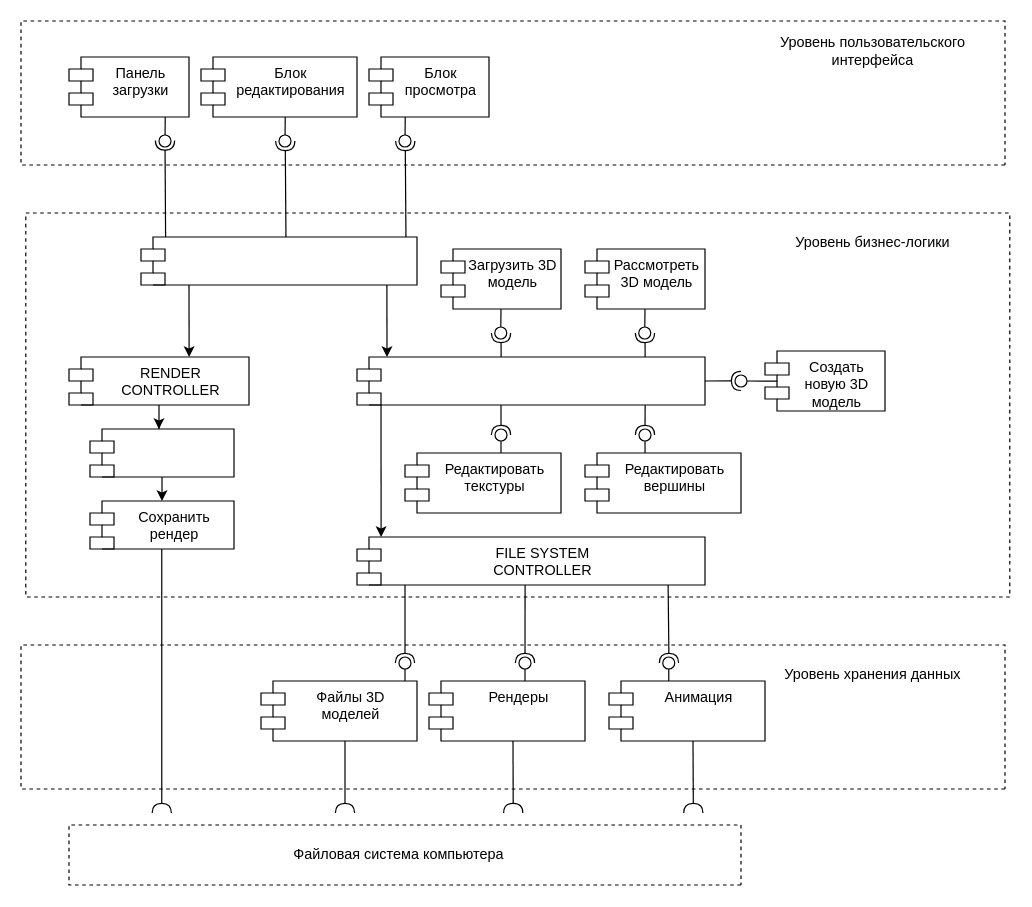
Some shapes in this 1032 by 907 pixel diagram are drawn without their labels. The shapes that lost their labels are listed below. From the top down, each one's centre as x and y in pixels, then its label:
At [278,260]: "APP CONTROLLER".
At [530,380]: "3D MODEL CONTROLLER".
At [161,452]: "Сделать рендер".
